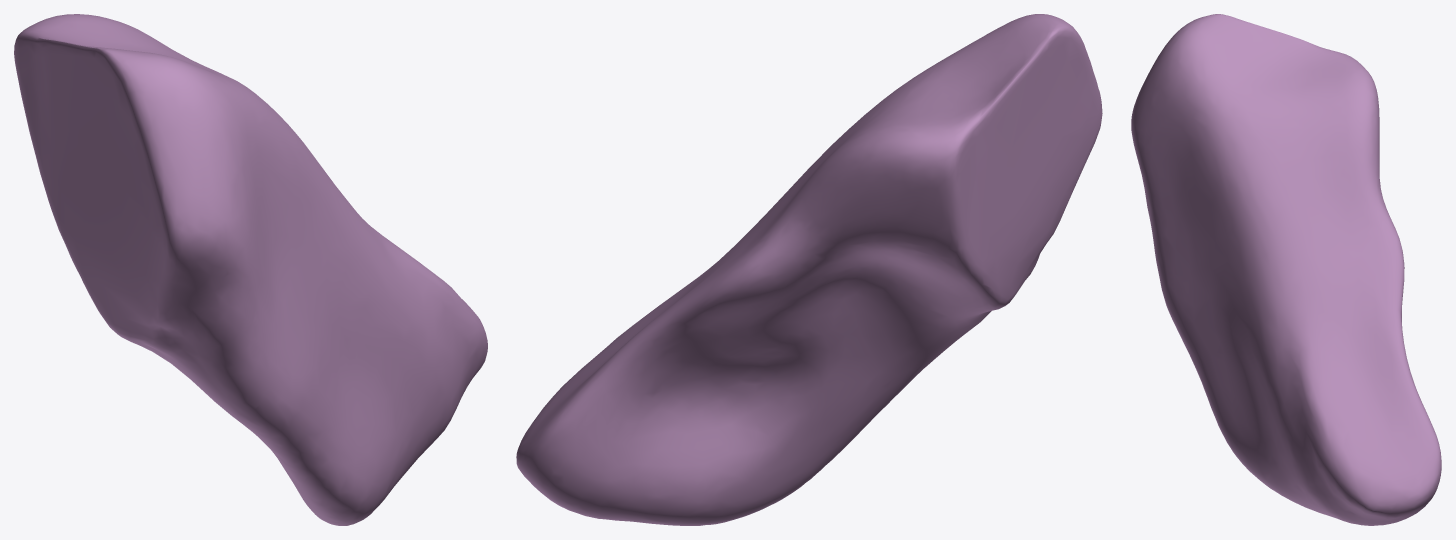
3 views of the same model, side by side, from view 1: azimuth 30°, elevation 25°; view 2: azimuth 150°, elevation 25°; view 3: azimuth 270°, elevation 25° (orthographic). The views are drawn at different scales.
Parts seen in each view (by area): view 1: 左侧前方形小叶; view 2: 左侧前方形小叶; view 3: 左侧前方形小叶.
Part boxes in pixels (bbox=[...]): 左侧前方形小叶: bbox=[14, 14, 487, 525]; 左侧前方形小叶: bbox=[516, 14, 1102, 525]; 左侧前方形小叶: bbox=[1131, 14, 1441, 525].
Size of the model in its own units: 0.0449 by 0.0513 by 0.0369.
